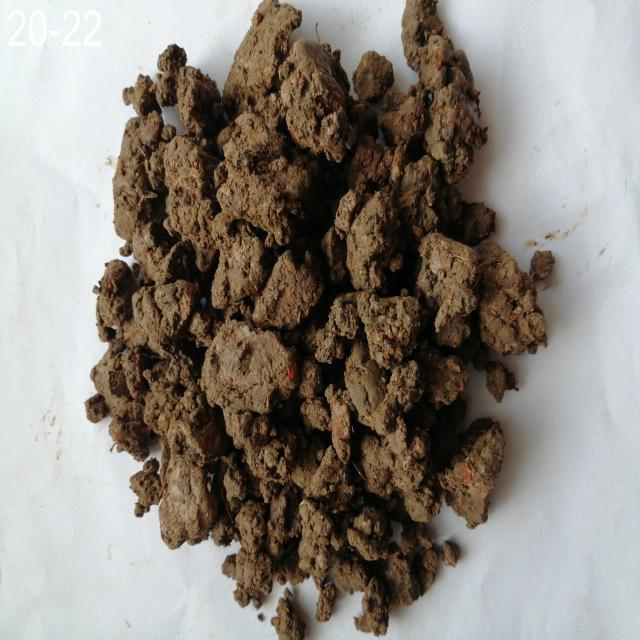soil: (157, 106, 454, 537)
